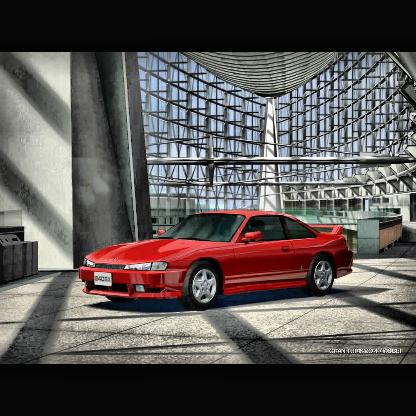Nissan 240SX Coupe 1998: (79, 209, 349, 307)
